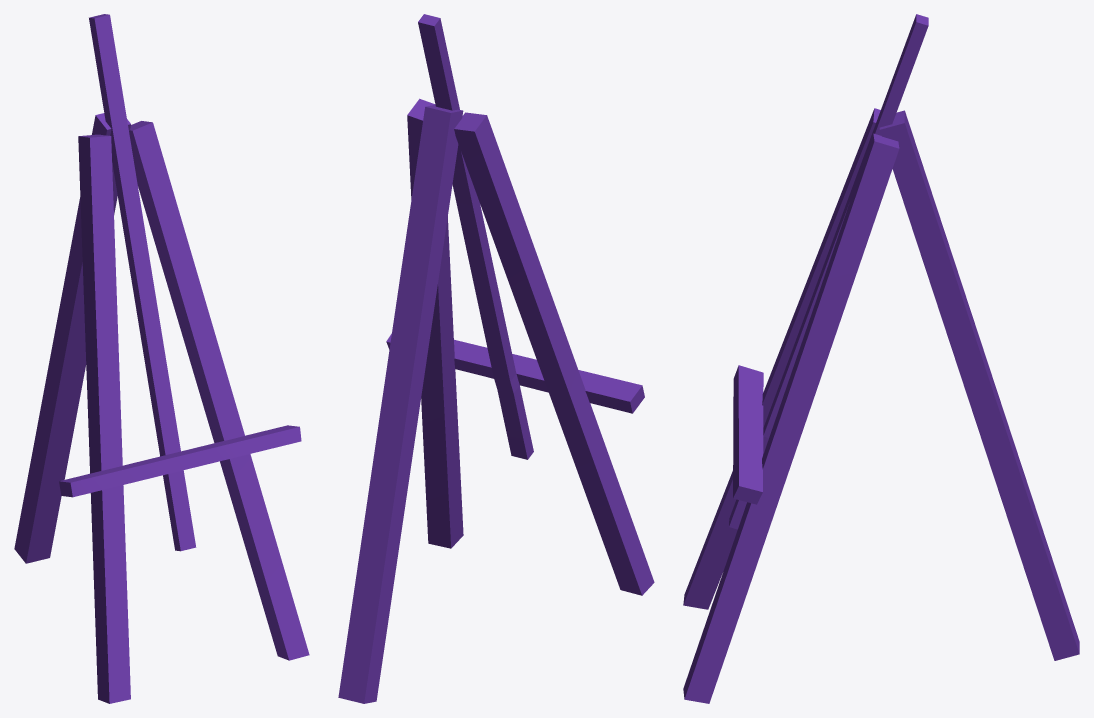
Rendered from Chevalet.glb.
The picture shows the model from 3 angles, left to right: view 1: azimuth 30°, elevation 25°; view 2: azimuth 150°, elevation 25°; view 3: azimuth 270°, elevation 25°; orthographic projection. The views are drawn at different scales.
Parts seen in each view (by area): view 1: Box002; view 2: Box002; view 3: Box002.
Part boxes in pixels (<box>): Box002: <box>14,14,309,703</box>; Box002: <box>338,14,654,703</box>; Box002: <box>683,14,1079,703</box>.
Size of the model in its own units: 0.6535 by 1.61 by 0.907.
